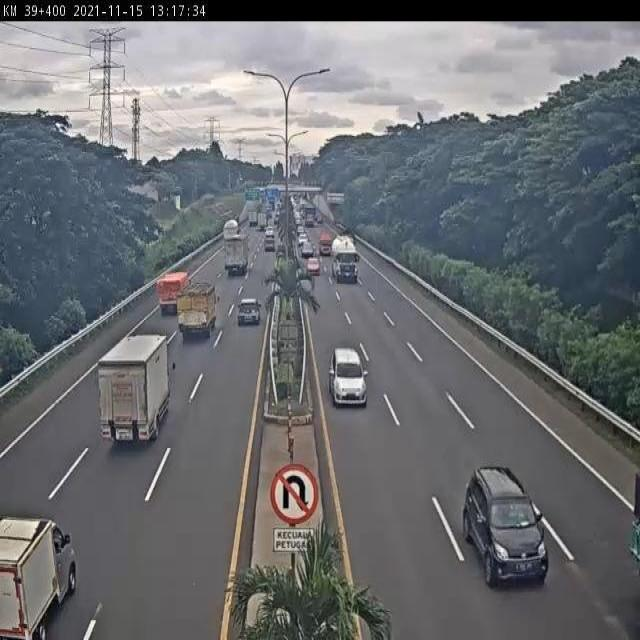Car: (462, 468, 548, 586), (328, 346, 367, 408), (233, 296, 267, 336), (306, 258, 321, 276), (300, 240, 314, 258), (298, 232, 306, 246)
Truck: (88, 327, 183, 458), (0, 516, 77, 639), (177, 281, 217, 340), (156, 271, 190, 316), (222, 220, 248, 276), (331, 235, 359, 281), (318, 232, 334, 256), (224, 220, 238, 242), (302, 205, 316, 226), (264, 228, 276, 251), (248, 210, 258, 227), (258, 212, 266, 230)
